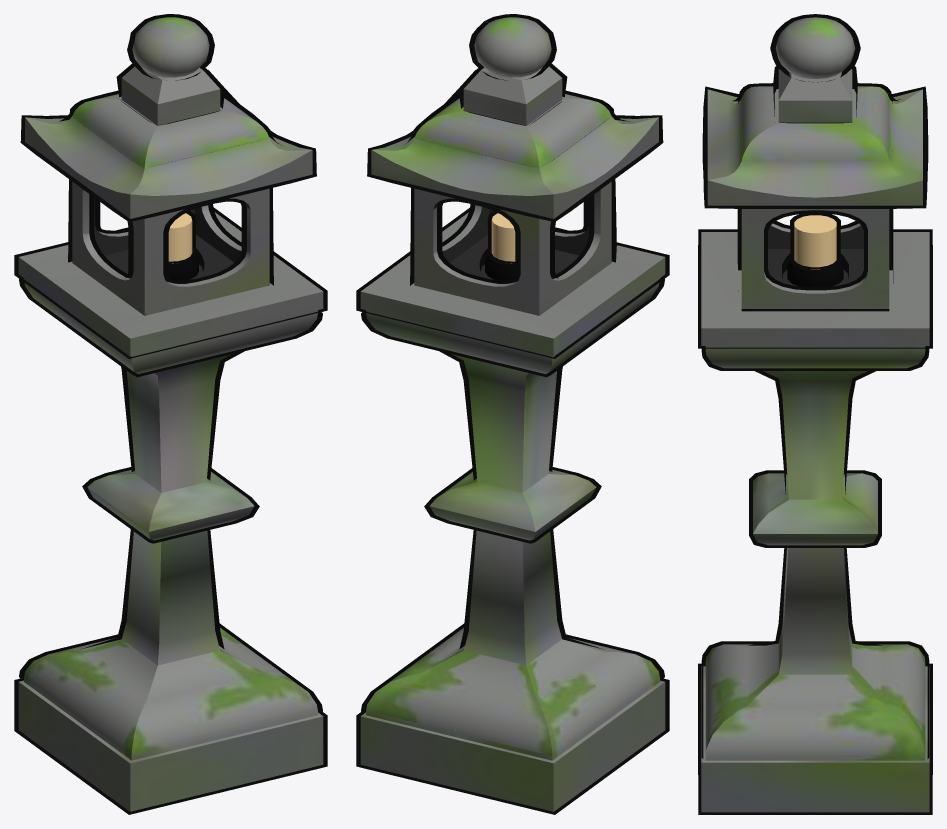
File: env_lamp_stone.glb
The picture shows the model from 3 angles, left to right: view 1: azimuth 30°, elevation 25°; view 2: azimuth 150°, elevation 25°; view 3: azimuth 270°, elevation 25°; orthographic projection. The views are drawn at different scales.
Parts seen in each view (by area): view 1: Cube.001; view 2: Cube.001; view 3: Cube.001.
Part boxes in pixels (x1,y1,x2,y2): Cube.001: [14, 14, 327, 814]; Cube.001: [356, 14, 669, 814]; Cube.001: [698, 14, 932, 814].
Bounding box in the file's own units: 1.03 × 3.62 × 1.03.
Materials: 2 (1 with a texture image).
